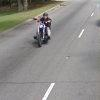Motorcycle: (30, 13, 60, 49)
